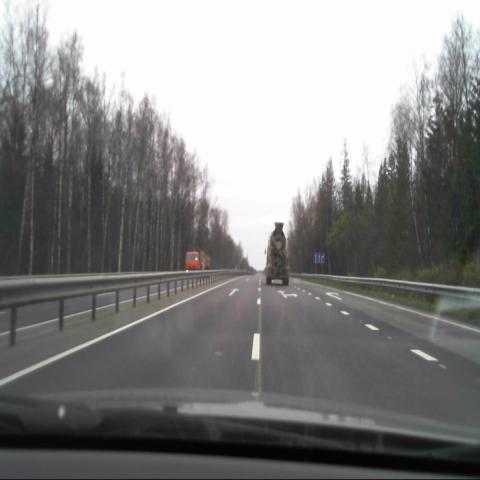5_15_1: (313, 252, 326, 264)
